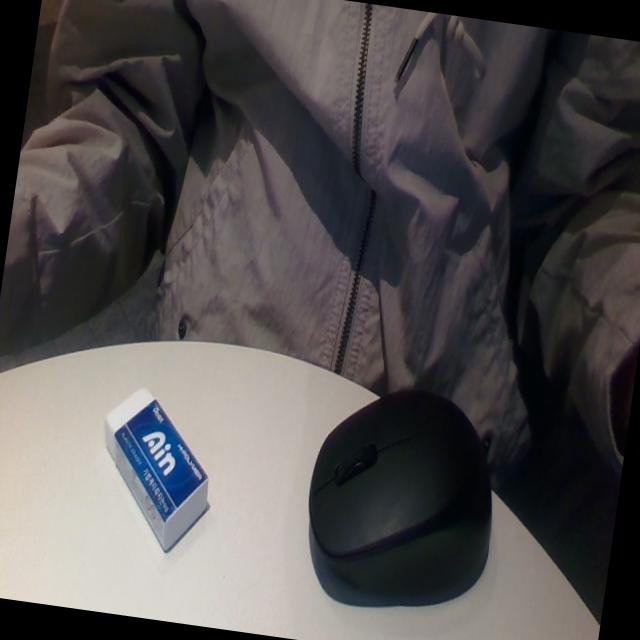eraser: (77, 384, 226, 565)
mouse: (286, 356, 524, 626)
